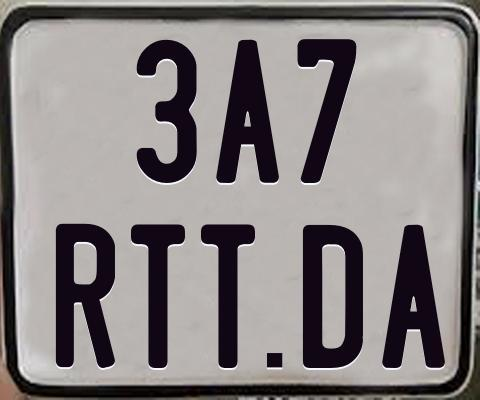3: (134, 38, 196, 182)
7: (295, 36, 356, 180)
A: (381, 224, 447, 373), (214, 39, 279, 184)
D: (303, 224, 365, 371)
R: (54, 221, 118, 366)
T: (200, 221, 256, 369), (128, 224, 183, 369)
